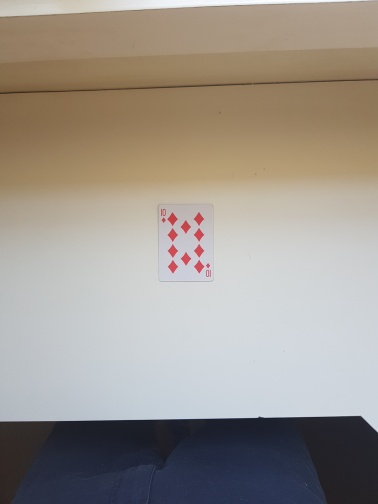ten: (156, 205, 215, 282)
